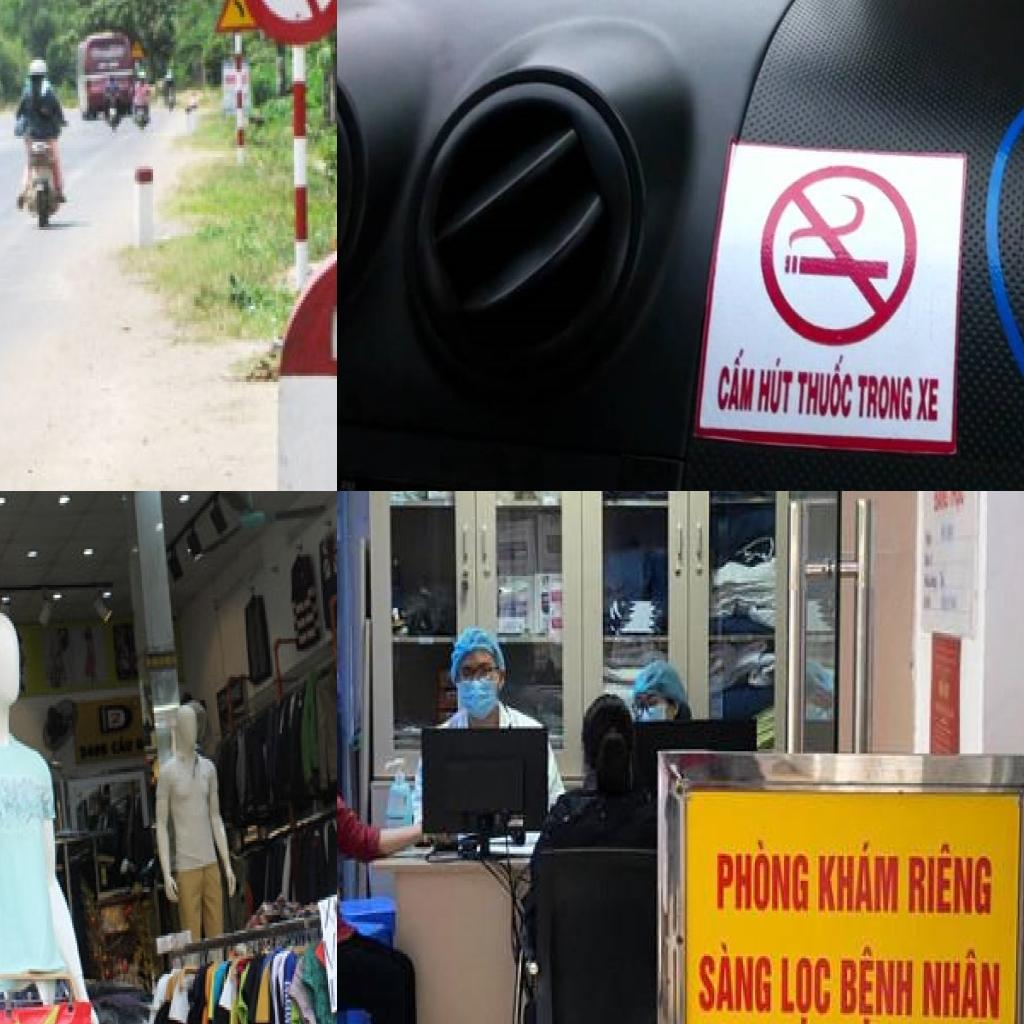text: (712, 836, 813, 918), (905, 840, 996, 922), (918, 942, 1004, 1024), (817, 838, 905, 917), (837, 940, 917, 1024), (696, 936, 776, 1018), (793, 349, 856, 420), (777, 951, 835, 1024), (715, 344, 759, 414), (854, 372, 914, 423), (756, 354, 796, 418), (914, 374, 940, 424)
